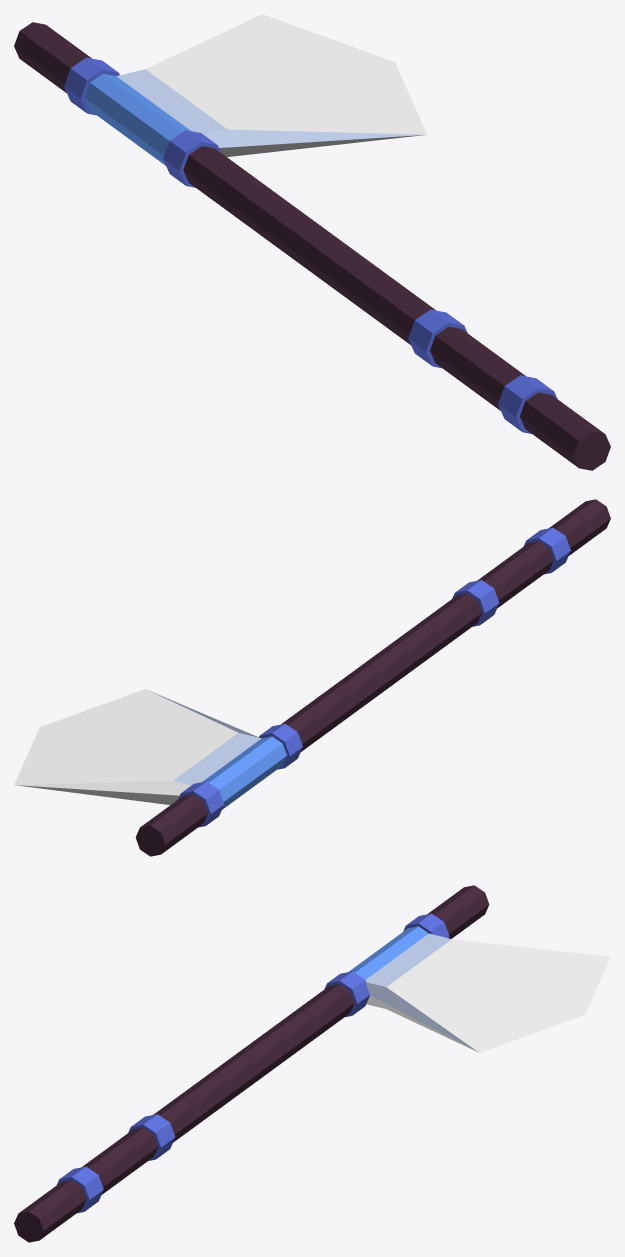
File: axe.glb
3 views of the same model, one above another, from view 1: azimuth 30°, elevation 25°; view 2: azimuth 150°, elevation 25°; view 3: azimuth 330°, elevation 25° (orthographic). The views are drawn at different scales.
Visible parts, largest first — view 1: Axe; view 2: Axe; view 3: Axe.
Boxes of the visible parts, box(x1,y1,x2,y2) form: Axe: box(14, 14, 610, 470); Axe: box(14, 499, 610, 856); Axe: box(14, 885, 610, 1242).
Size of the model in its own units: 0.7316 by 0.12 by 2.6.
Materials: 1 (1 with a texture image).
